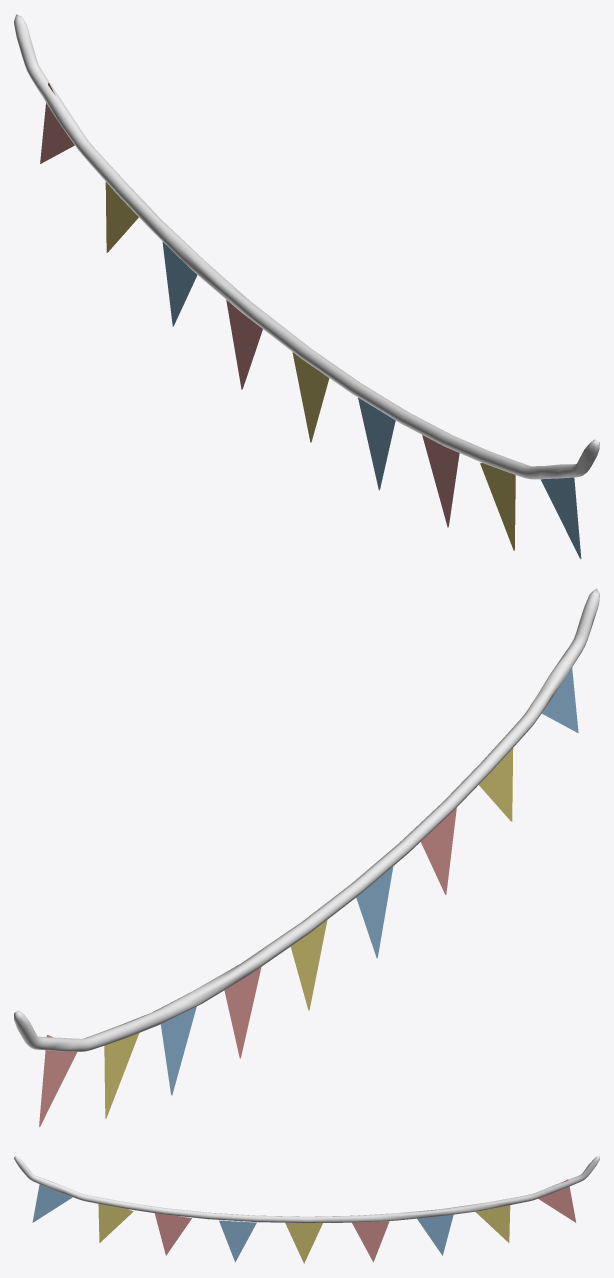
The model's file is Flags.fbx.
3 views of the same model, one above another, from view 1: azimuth 30°, elevation 25°; view 2: azimuth 150°, elevation 25°; view 3: azimuth 270°, elevation 25° (orthographic). The views are drawn at different scales.
Visible parts, largest first — view 1: Flag; view 2: Flag; view 3: Flag.
Boxes of the visible parts, x1,y1,x2,y2 form: Flag: [14, 14, 599, 559]; Flag: [14, 588, 599, 1127]; Flag: [14, 1156, 599, 1263].
Bounding box in the file's own units: 12.03 × 202 × 998.
